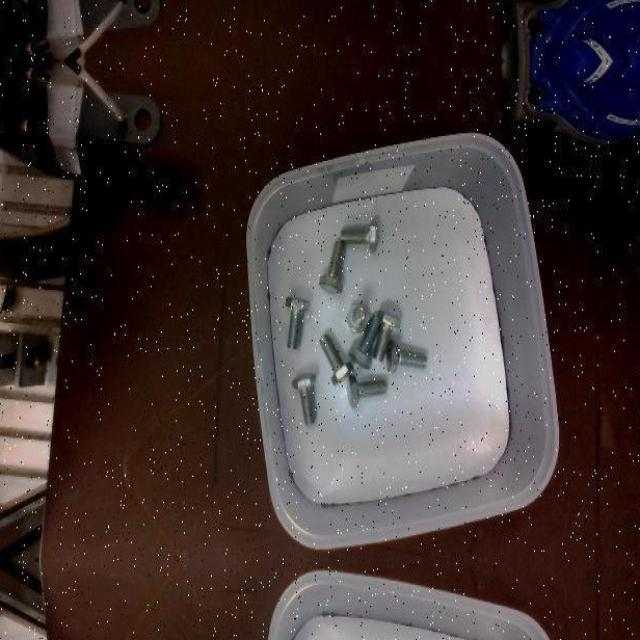screw: (319, 332, 353, 385), (348, 316, 381, 370), (318, 240, 345, 294), (373, 310, 401, 362), (385, 339, 427, 372), (284, 295, 310, 348), (291, 373, 316, 425), (346, 375, 385, 408), (340, 220, 377, 252), (345, 304, 370, 332)
